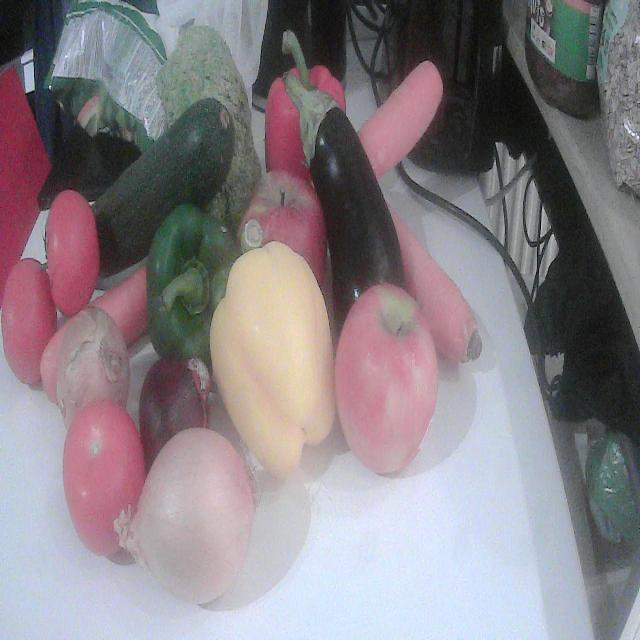Apple: (335, 284, 438, 473), (240, 171, 328, 289)
Bell Pepper: (210, 242, 335, 478), (147, 204, 238, 366)
Broccoli: (158, 24, 262, 231)
Carrot: (392, 211, 479, 364), (359, 60, 442, 178)
Courgette: (93, 101, 236, 274)
Eggplant: (284, 75, 404, 321)
Onion: (121, 428, 254, 604), (56, 306, 130, 425), (140, 358, 210, 471)
Tomato: (64, 401, 146, 555), (2, 258, 57, 387), (46, 191, 100, 316)
